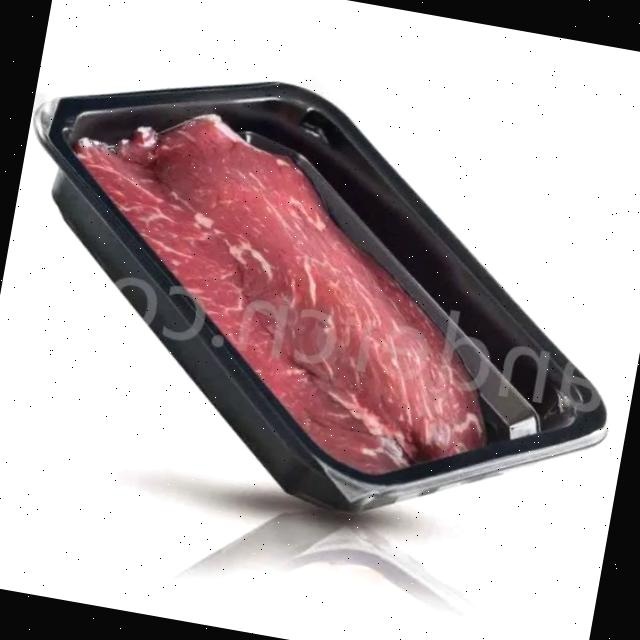meat: (0, 27, 640, 533)
